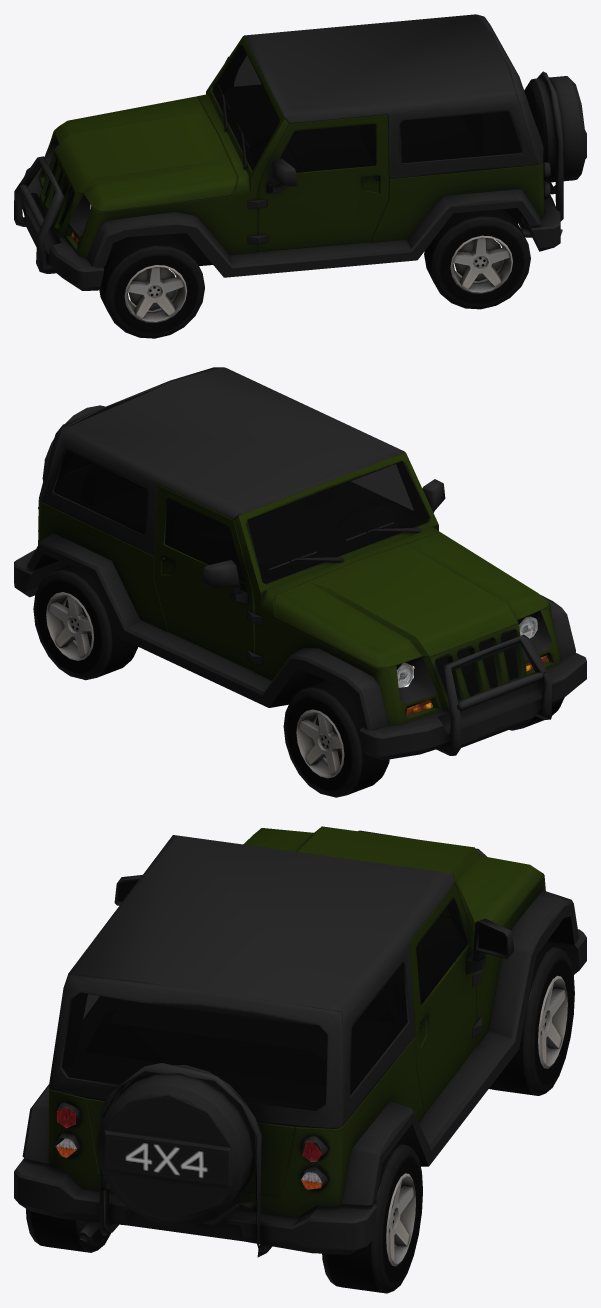
The model's file is generico-offroad.glb.
3 renders of one model, top to bottom at view 1: azimuth 30°, elevation 25°; view 2: azimuth 150°, elevation 25°; view 3: azimuth 270°, elevation 25°, orthographic. The views are drawn at different scales.
Parts seen in each view (by area): view 1: Offroad Body, Wheel_G, Wheel_G001; view 2: Offroad Body, Wheel_G001, Wheel_G002; view 3: Offroad Body, Wheel_G001 (×2), Wheel_G002.
Boxes of the visible parts, x1,y1,x2,y2 form: Offroad Body: (14,14,586,290); Wheel_G: (99,234,204,338); Wheel_G001: (424,209,530,309); Offroad Body: (14,367,586,760); Wheel_G001: (283,680,389,797); Wheel_G002: (33,565,137,680); Offroad Body: (14,826,586,1257); Wheel_G001 (×2): (26,945,574,1252); Wheel_G002: (322,1143,422,1293).
Size of the model in its own units: 3.95 by 1.57 by 2.71.
Materials: 4 (3 with a texture image).
